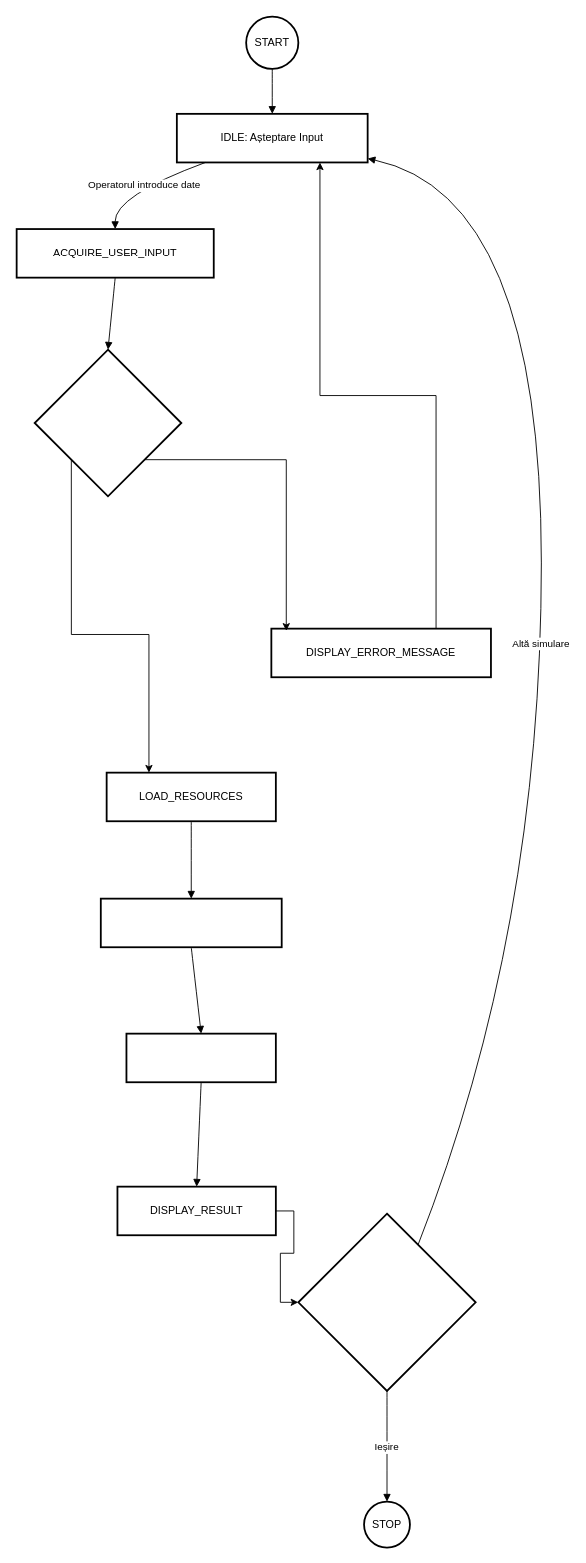
Some shapes in this 586 by 1563 pixel diagram are drawn without their labels. Here are the shapes that lost their labels. From the top down, the centre of each, then its label:
pixel 107 422: VALIDATE_DATA
pixel 190 922: PREPROCESS_INPUT
pixel 200 1057: RN_INFERENCE
pixel 386 1301: WAIT_NEXT_ACTION
